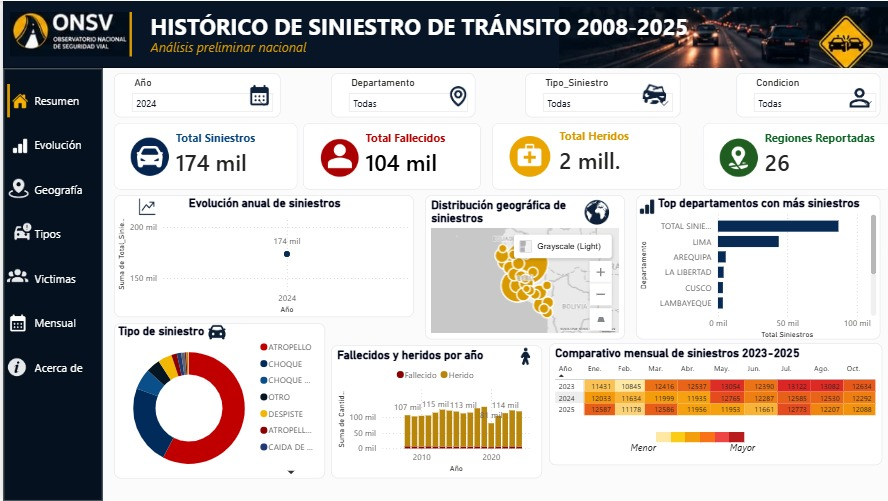

Layout of this report page (visuals, bound fields, positions):
{"tool":"powerbi","page":{"name":"Página 1","canvas":[1280,720],"ordinal":0},"visuals":[{"type":"shape","box":[144,96,1136,625],"z":0},{"type":"shape","box":[939.9,620.7,22.4,14.7],"z":0,"group":"g1"},{"type":"shape","box":[0,0,1280,95],"z":1000},{"type":"shape","box":[960.9,620.7,22.4,14.7],"z":1000,"group":"g1"},{"type":"textbox","box":[208,32,1072,160],"z":2000},{"type":"shape","box":[982,620.7,22.4,14.7],"z":2000,"group":"g1"},{"type":"shape","box":[0,96,144,624],"z":3000},{"type":"shape","box":[1003.1,620.7,22.4,14.7],"z":3000,"group":"g1"},{"type":"textbox","box":[40,128,128,64],"z":4000},{"type":"shape","box":[1024.2,620.7,22.4,14.7],"z":4000,"group":"g1"},{"type":"textbox","box":[40,192,128,64],"z":5000},{"type":"shape","box":[1045.3,620.7,22.4,14.7],"z":5000,"group":"g1"},{"type":"textbox","box":[40,256,128,64],"z":6000},{"type":"textbox","box":[898.2,628.7,232,56],"z":6000,"group":"g1"},{"type":"textbox","box":[40,320,128,64],"z":7000},{"type":"textbox","box":[40,384,128,64],"z":8000},{"type":"textbox","box":[40,448,128,64],"z":9000},{"type":"textbox","box":[40,512,128,64],"z":10000},{"type":"shape","box":[0,120,16,48],"z":11000},{"type":"slicer","fields":{"Values":["Fact_Siniestros_Region.Año"]},"box":[160,104,240,64],"z":12000},{"type":"slicer","fields":{"Values":["Fact_Siniestros_Region.DEPARTAMENTO"]},"box":[472,104,208,64],"z":13000},{"type":"slicer","fields":{"Values":["Fact_Siniestros_Tipo.Tipo_Siniestro"]},"box":[752,104,224,64],"z":14000},{"type":"slicer","fields":{"Values":["Fact_Victimas.Condicion"]},"box":[1056,104,208,64],"z":15000},{"type":"cardVisual","fields":{"Data":["Fact_Siniestros_Region.Total Fallecidos"]},"box":[432,176,256,96],"z":16000},{"type":"cardVisual","fields":{"Data":["Fact_Siniestros_Region.Total Siniestros"]},"box":[160,176,264,96],"z":17000},{"type":"cardVisual","fields":{"Data":["Fact_Siniestros_Region.Total Heridos"]},"box":[704,176,272,96],"z":18000},{"type":"cardVisual","fields":{"Data":["Fact_Siniestros_Region.Regiones Reportadas"]},"box":[1008,176,272,96],"z":19000},{"type":"lineChart","title":"       Evolución anual de siniestros","fields":{"Category":["Fact_Siniestros_Region.Año"],"Y":["Sum(Fact_Siniestros_Region.Total_Siniestros)"]},"box":[160,280,432,176],"z":20000},{"type":"azureMap","title":"Distribución geográfica de siniestros","fields":{"Category":["Fact_Siniestros_Region.Ubicacion_Mapa"],"Size":["Fact_Siniestros_Region.Total Siniestros"]},"box":[608,280,288,208],"z":21000},{"type":"clusteredBarChart","title":"Top departamentos con más siniestros","fields":{"Category":["Fact_Siniestros_Region.Departamento"],"Y":["Fact_Siniestros_Region.Total Siniestros"]},"box":[912,280,352,208],"z":22000},{"type":"donutChart","title":"Tipo de siniestro","fields":{"Category":["Fact_Siniestros_Tipo.Tipo_Siniestro"],"Y":["Sum(Fact_Siniestros_Tipo.Cantidad)"]},"box":[160,464,304,224],"z":23000},{"type":"pivotTable","title":"Comparativo mensual de siniestros 2023-2025","fields":{"Rows":["Fact_Siniestros_Mensual.Año"],"Values":["Sum(Fact_Siniestros_Mensual.Siniestros)"],"Columns":["Dim_Meses.Mes_Corto"]},"box":[786.2,492.7,480,176],"z":24000},{"type":"columnChart","title":"Fallecidos y heridos por año","fields":{"Category":["Fact_Victimas.Año"],"Series":["Fact_Victimas.Condicion"],"Y":["Sum(Fact_Victimas.Cantidad)"]},"box":[472,496,304,192],"z":25000},{"type":"group","id":"g1","title":"Grupo 1","box":[898.2,620.7,232,64],"z":26000},{"type":"shape","box":[176,16,16,64],"z":27000},{"type":"image","box":[192,280,32,32],"z":28000},{"type":"image","box":[320,112,96,48],"z":29000},{"type":"image","box":[832,280,48,48],"z":30000},{"type":"image","box":[624,112,64,48],"z":31000},{"type":"image","box":[800,8,480,88],"z":32000},{"type":"image","box":[912,104,53,61],"z":33000},{"type":"image","box":[1208,112,48,56],"z":34000},{"type":"image","box":[728,480,48,64],"z":35000},{"type":"image","box":[912,272,32,48],"z":36000},{"type":"image","box":[8,152,32,112],"z":37000},{"type":"image","box":[0,416,40,96],"z":38000},{"type":"image","box":[0,496,40,64],"z":39000},{"type":"image","box":[0,248,45,45],"z":40000},{"type":"image","box":[8,128,32,32],"z":41000},{"type":"image","box":[0,352,42,85],"z":42000},{"type":"image","box":[8,304,40,56],"z":43000},{"type":"image","box":[272,456,72,40],"z":44000},{"type":"textbox","box":[208,8,1071,144],"z":45000},{"type":"image","box":[0,16,192,64],"z":46000}]}

Visuals, with their boxes in screenshot pixels (x1, y1, x2, y2):
shape: 102, 66, 887, 500
shape: 667, 438, 683, 448
shape: 0, 0, 887, 65
shape: 682, 438, 697, 448
textbox: 148, 20, 887, 134
shape: 697, 438, 712, 448
shape: 0, 66, 102, 500
shape: 712, 438, 727, 448
textbox: 28, 88, 119, 134
shape: 726, 438, 742, 448
textbox: 28, 134, 119, 179
shape: 741, 438, 757, 448
textbox: 28, 179, 119, 225
textbox: 637, 444, 802, 483
textbox: 28, 225, 119, 270
textbox: 28, 270, 119, 315
textbox: 28, 315, 119, 361
textbox: 28, 361, 119, 406
shape: 0, 83, 11, 117
slicer - Fact_Siniestros_Region.Año: 113, 71, 284, 117
slicer - Fact_Siniestros_Region.DEPARTAMENTO: 335, 71, 482, 117
slicer - Fact_Siniestros_Tipo.Tipo_Siniestro: 533, 71, 692, 117
slicer - Fact_Victimas.Condicion: 749, 71, 887, 117
cardVisual - Fact_Siniestros_Region.Total Fallecidos: 306, 123, 488, 191
cardVisual - Fact_Siniestros_Region.Total Siniestros: 113, 123, 301, 191
cardVisual - Fact_Siniestros_Region.Total Heridos: 499, 123, 692, 191
cardVisual - Fact_Siniestros_Region.Regiones Reportadas: 715, 123, 887, 191
"       Evolución anual de siniestros" lineChart: 113, 196, 420, 321
"Distribución geográfica de siniestros" azureMap: 431, 196, 636, 344
"Top departamentos con más siniestros" clusteredBarChart: 647, 196, 887, 344
"Tipo de siniestro" donutChart: 113, 327, 329, 486
"Comparativo mensual de siniestros 2023-2025" pivotTable: 558, 347, 887, 472
"Fallecidos y heridos por año" columnChart: 335, 350, 550, 486
"Grupo 1" group: 637, 438, 802, 483
shape: 125, 9, 136, 54
image: 136, 196, 159, 219
image: 227, 77, 295, 111
image: 590, 196, 624, 230
image: 443, 77, 488, 111
image: 567, 3, 887, 66
image: 647, 71, 684, 115
image: 857, 77, 887, 117
image: 516, 338, 550, 384
image: 647, 191, 670, 225
image: 6, 106, 28, 185
image: 0, 293, 28, 361
image: 0, 350, 28, 395
image: 0, 174, 32, 206
image: 6, 88, 28, 111
image: 0, 247, 30, 308
image: 6, 213, 34, 253
image: 193, 321, 244, 350
textbox: 148, 3, 887, 106
image: 0, 9, 136, 54
